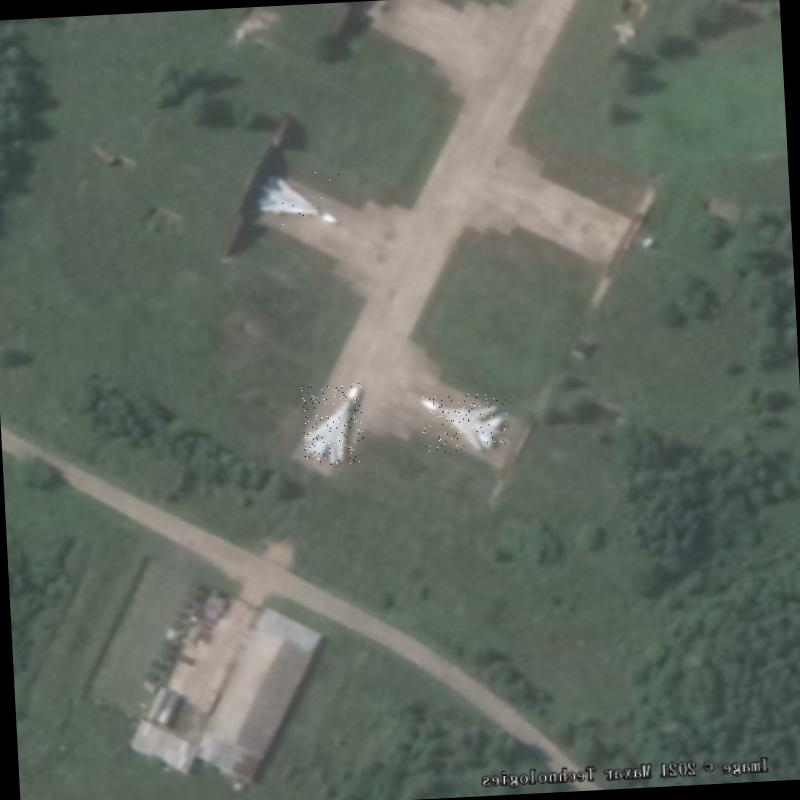A20: (421, 392, 510, 455), (301, 383, 365, 466), (255, 170, 342, 227)
